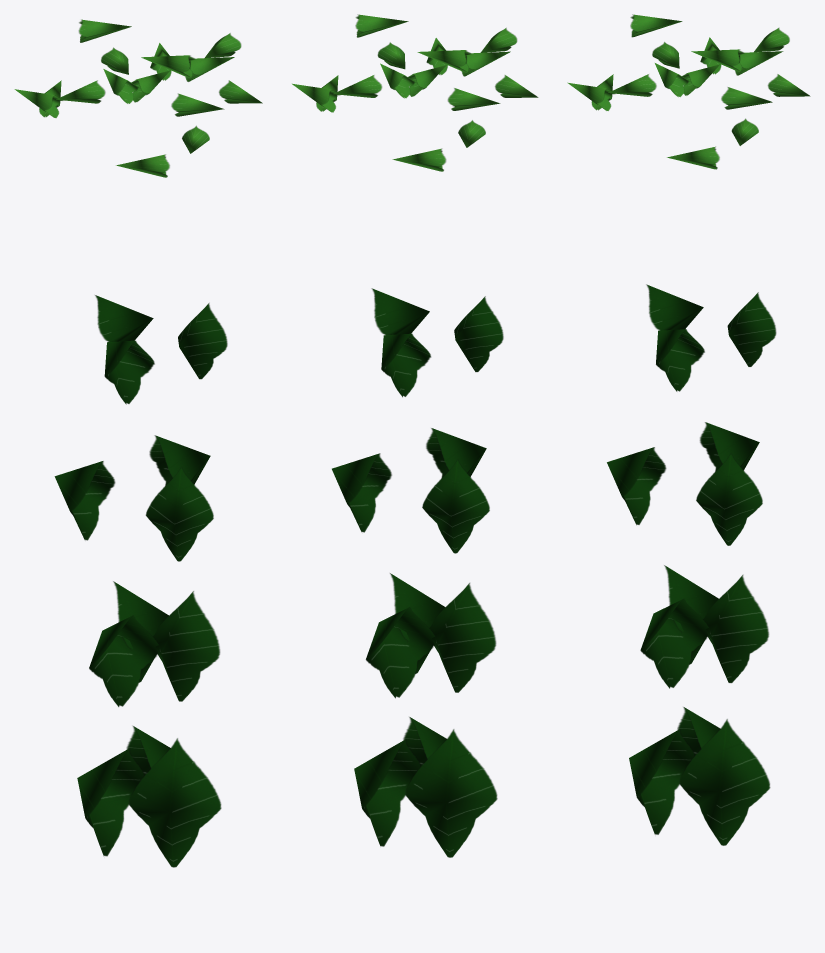
File: Herb_WhiteWoodAster.glb
The picture shows the model from 3 angles, left to right: view 1: azimuth 30°, elevation 25°; view 2: azimuth 150°, elevation 25°; view 3: azimuth 270°, elevation 25°; orthographic projection.
Visible parts, largest first — view 1: Herb_WhiteWoodAster; view 2: Herb_WhiteWoodAster; view 3: Herb_WhiteWoodAster.
Boxes of the visible parts, x1,y1,x2,y2 form: Herb_WhiteWoodAster: (14, 19, 262, 867); Herb_WhiteWoodAster: (292, 14, 538, 857); Herb_WhiteWoodAster: (567, 14, 810, 845).
Bounding box in the file's own units: 0.1279 × 0.5563 × 0.1385.
1 material, 1 textured.
